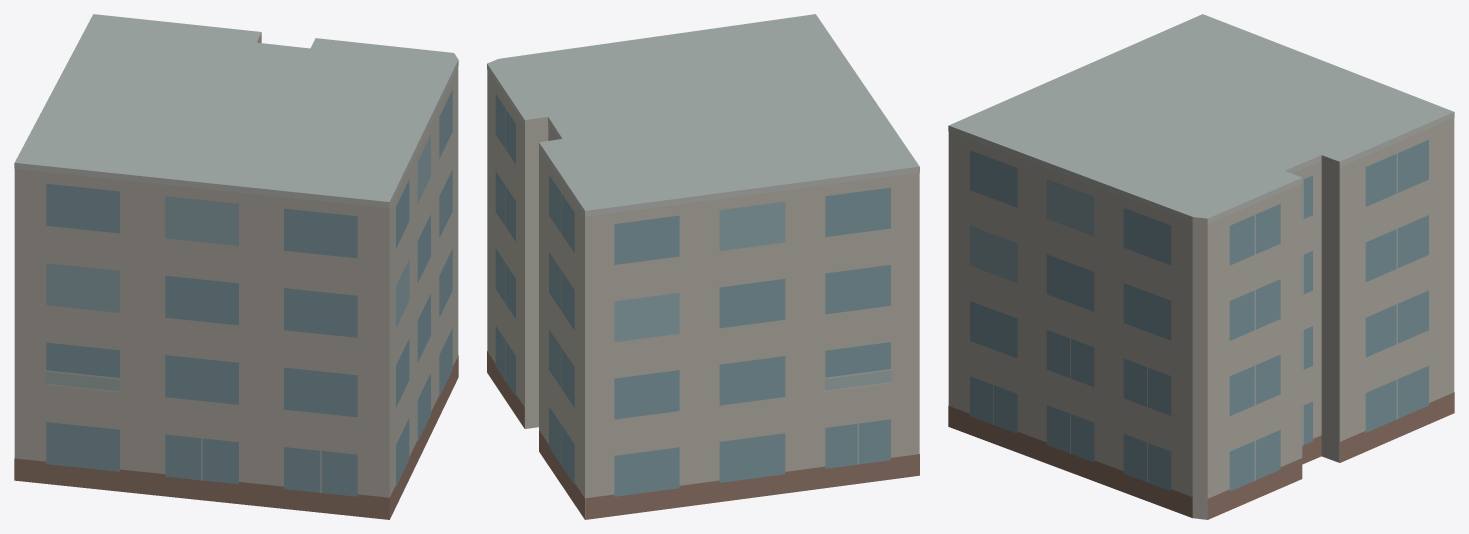
Rendered from survey-upis-32993940.glb.
3 views of the same model, side by side, from view 1: azimuth 30°, elevation 25°; view 2: azimuth 150°, elevation 25°; view 3: azimuth 270°, elevation 25° (orthographic). The views are drawn at different scales.
Visible parts, largest first — view 1: survey-upis-32993940.tmp; view 2: survey-upis-32993940.tmp; view 3: survey-upis-32993940.tmp.
Part boxes in pixels (bbox=[...]): survey-upis-32993940.tmp: bbox=[14, 14, 458, 519]; survey-upis-32993940.tmp: bbox=[487, 14, 919, 519]; survey-upis-32993940.tmp: bbox=[948, 14, 1454, 519].
Size of the model in its own units: 18.65 by 12.8 by 19.49.
